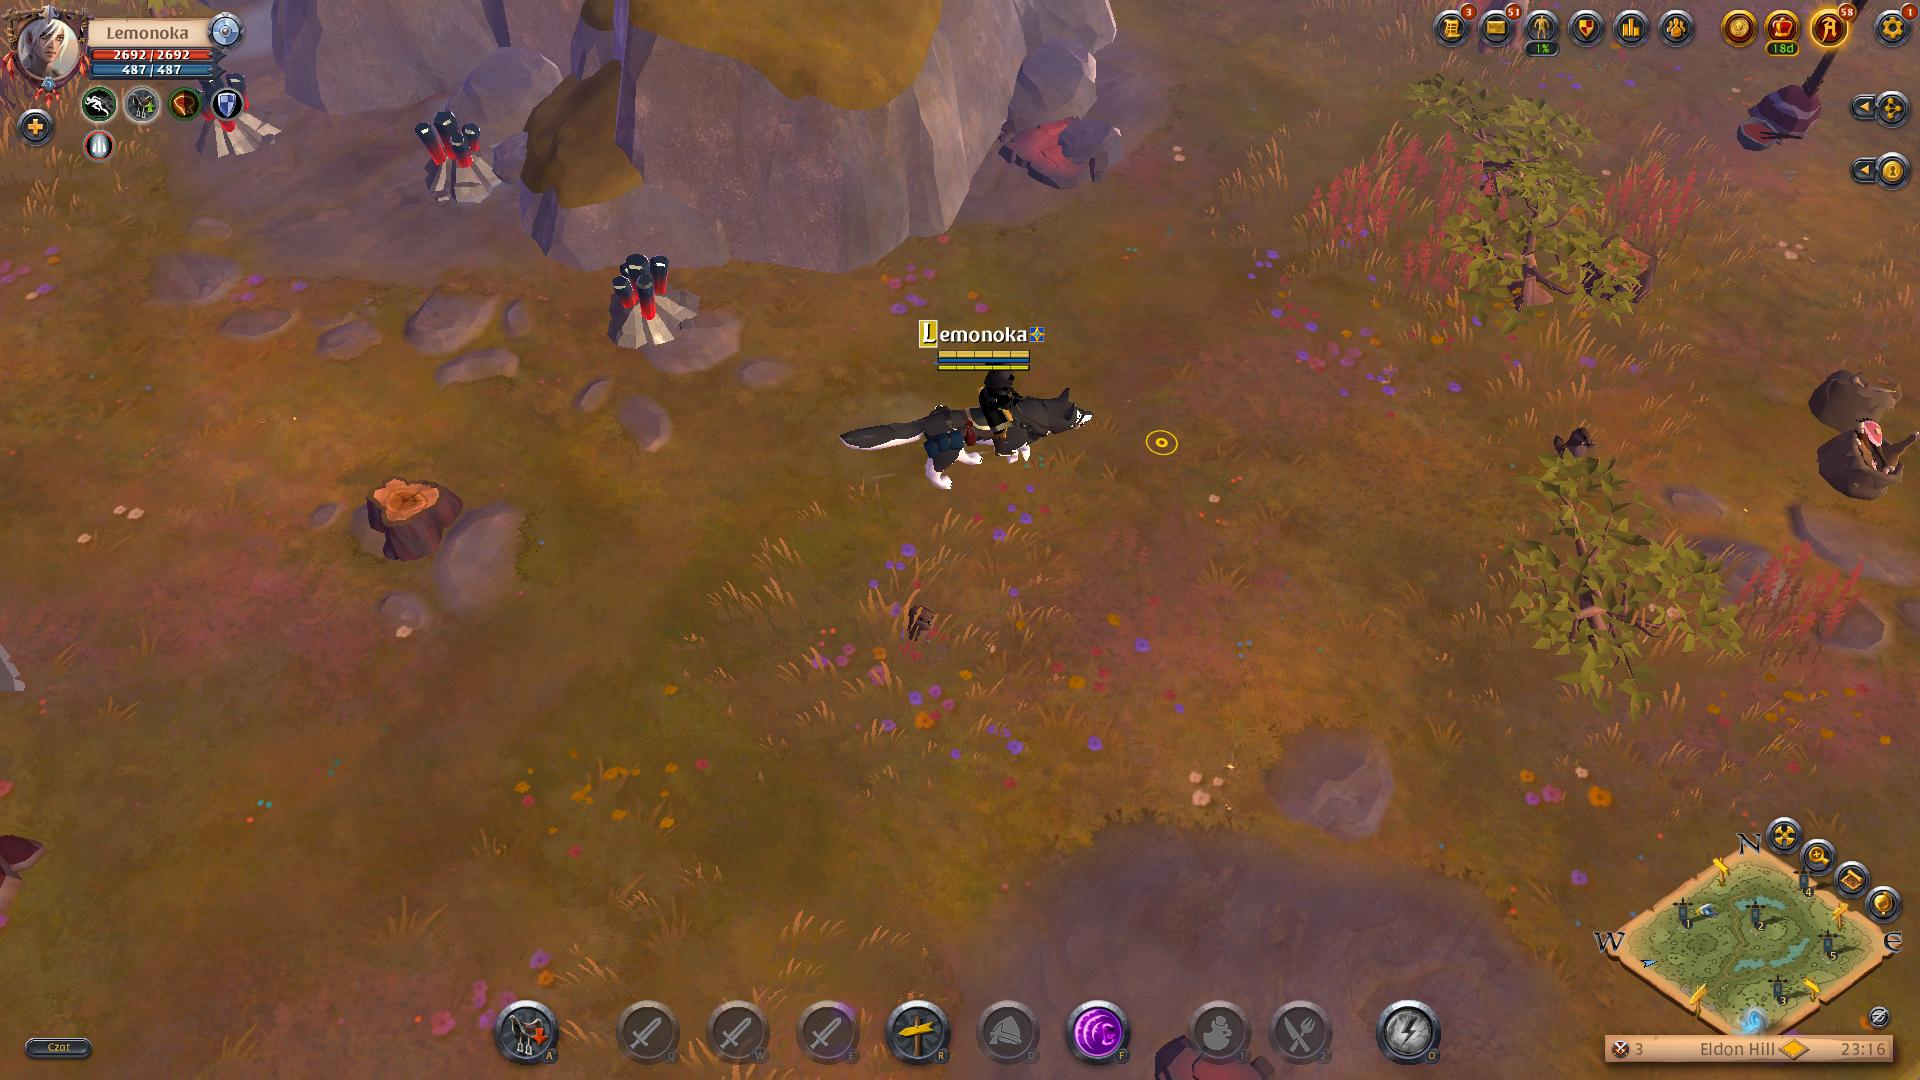ore tier 5: (601, 245, 703, 352), (413, 107, 505, 204)
